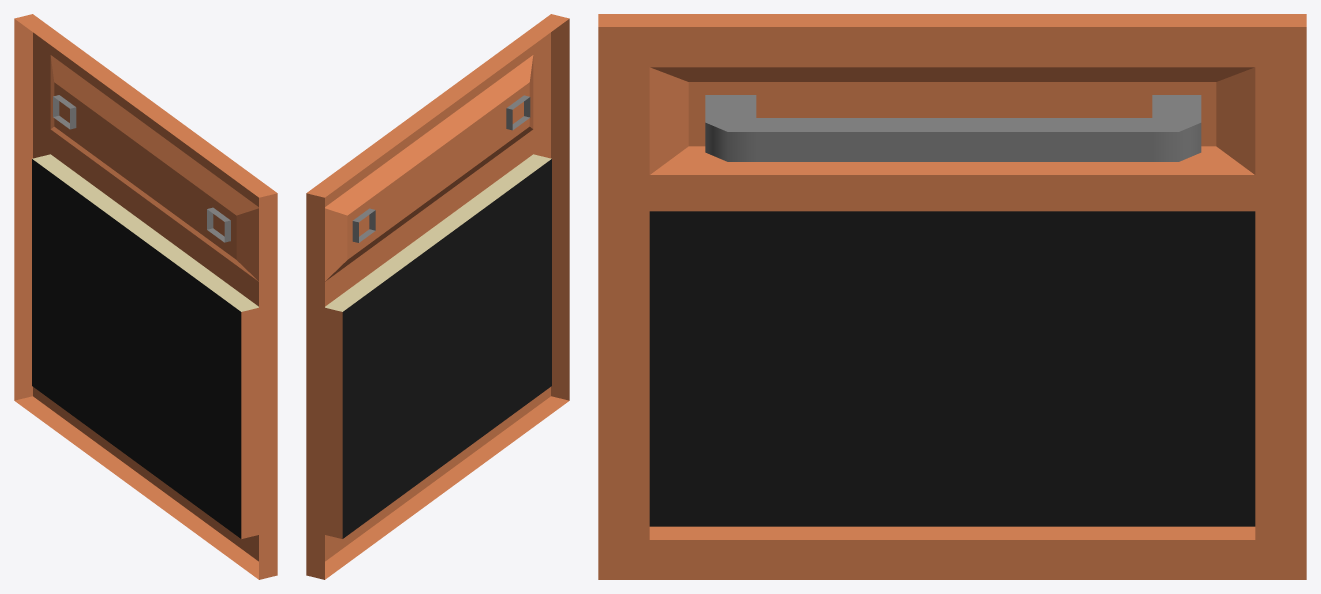
File: SM_OvenDoor_01.fbx
3 renders of one model, left to right at view 1: azimuth 30°, elevation 25°; view 2: azimuth 150°, elevation 25°; view 3: azimuth 270°, elevation 25°, orthographic. The views are drawn at different scales.
Visible parts, largest first — view 1: SM_OvenDoor_01; view 2: SM_OvenDoor_01; view 3: SM_OvenDoor_01.
Part boxes in pixels (bbox=[...]): SM_OvenDoor_01: bbox=[14, 14, 277, 579]; SM_OvenDoor_01: bbox=[306, 14, 569, 579]; SM_OvenDoor_01: bbox=[598, 14, 1306, 579].
Size of the model in its own units: 0.123 by 0.858 by 0.7388.
